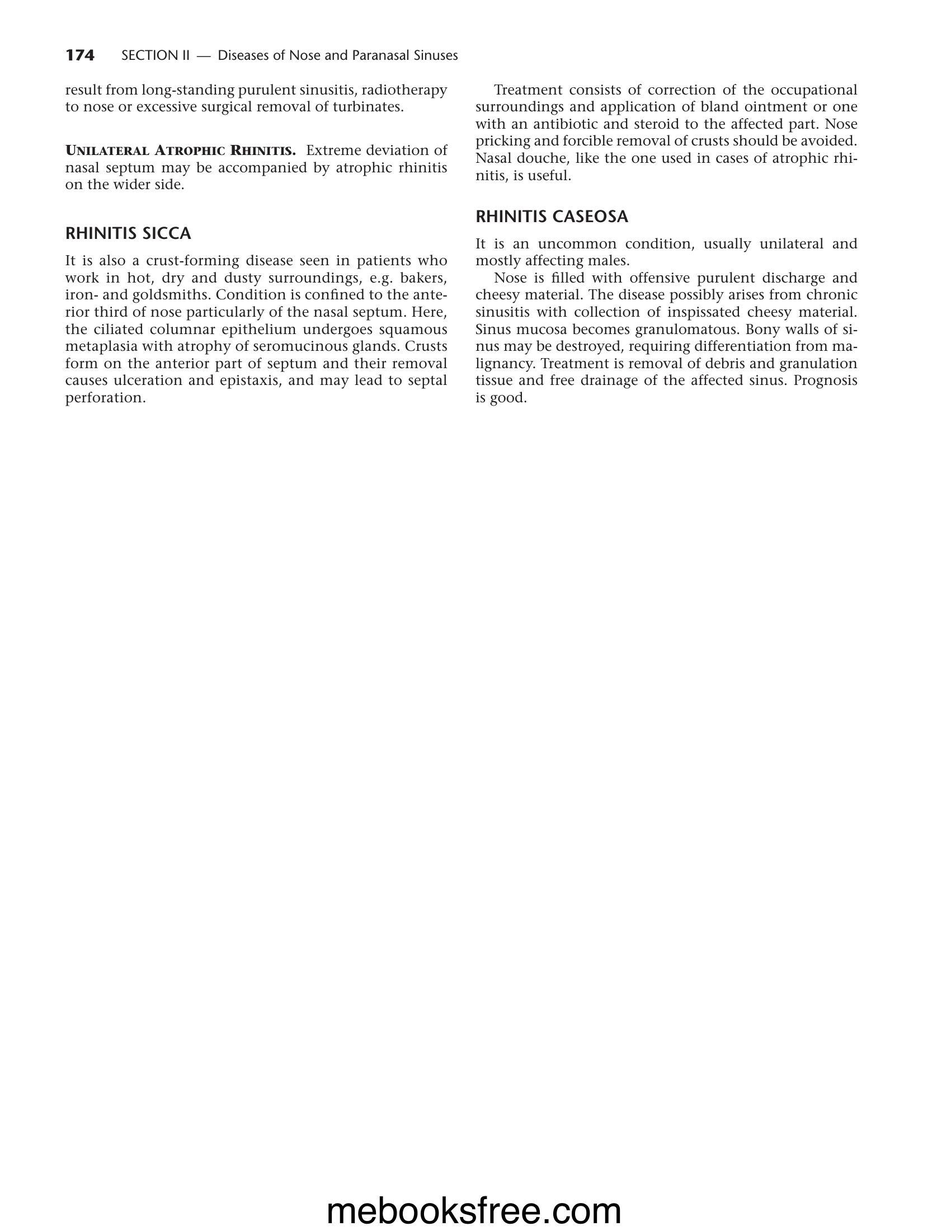header: (121, 48, 459, 62)
section-heading: (475, 208, 630, 224), (65, 224, 193, 240)
text: (474, 236, 859, 408), (64, 253, 449, 408), (64, 81, 450, 191), (474, 81, 860, 183)
